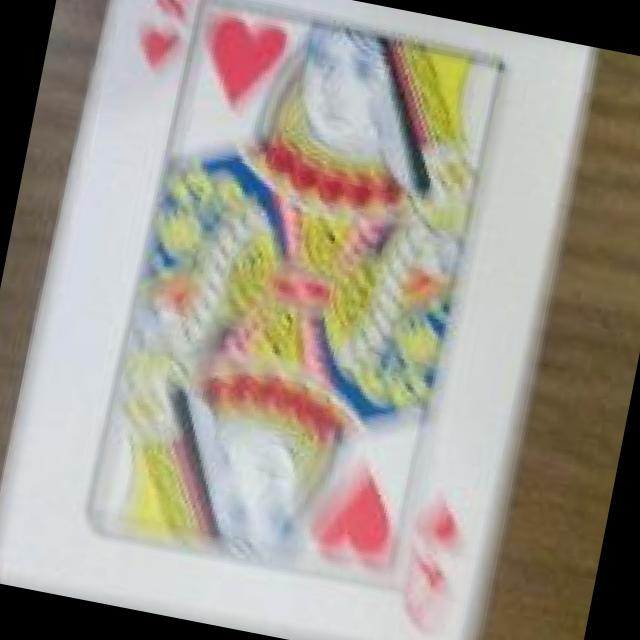Queen of hearts: (0, 0, 594, 640)
